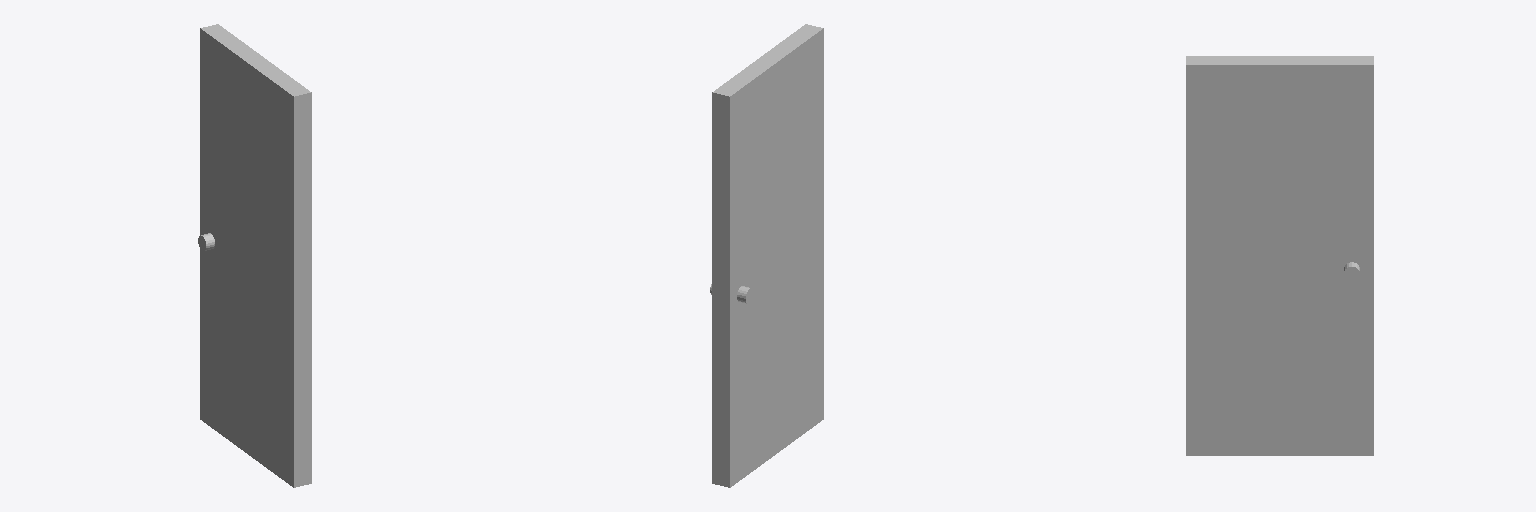
The model's file is Door1_R.obj.
The picture shows the model from 3 angles: view 1: azimuth 30°, elevation 25°; view 2: azimuth 150°, elevation 25°; view 3: azimuth 270°, elevation 25°; orthographic projection.
Parts seen in each view (by area): view 1: DWPR_005_3; view 2: DWPR_005_3; view 3: DWPR_005_3.
Boxes of the visible parts, <box> form: DWPR_005_3: <box>200,24,311,487</box>; DWPR_005_3: <box>712,24,823,487</box>; DWPR_005_3: <box>1186,56,1373,455</box>.
Bounding box in the file's own units: 2 × 21 × 9.1.